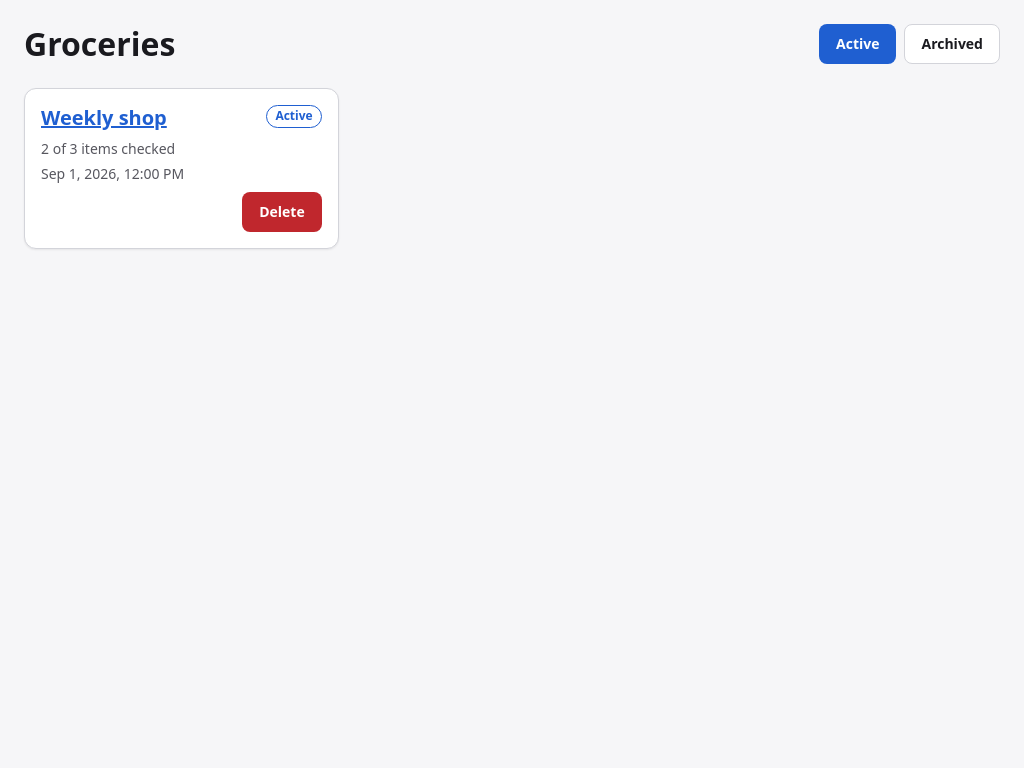
GroceryLists › cancelling the delete dialog keeps the list
expect the link "Weekly shop" is shown: met, box [41,104,167,131]
Click the button "Delete".
click(282, 212)  # box [242,192,322,232]
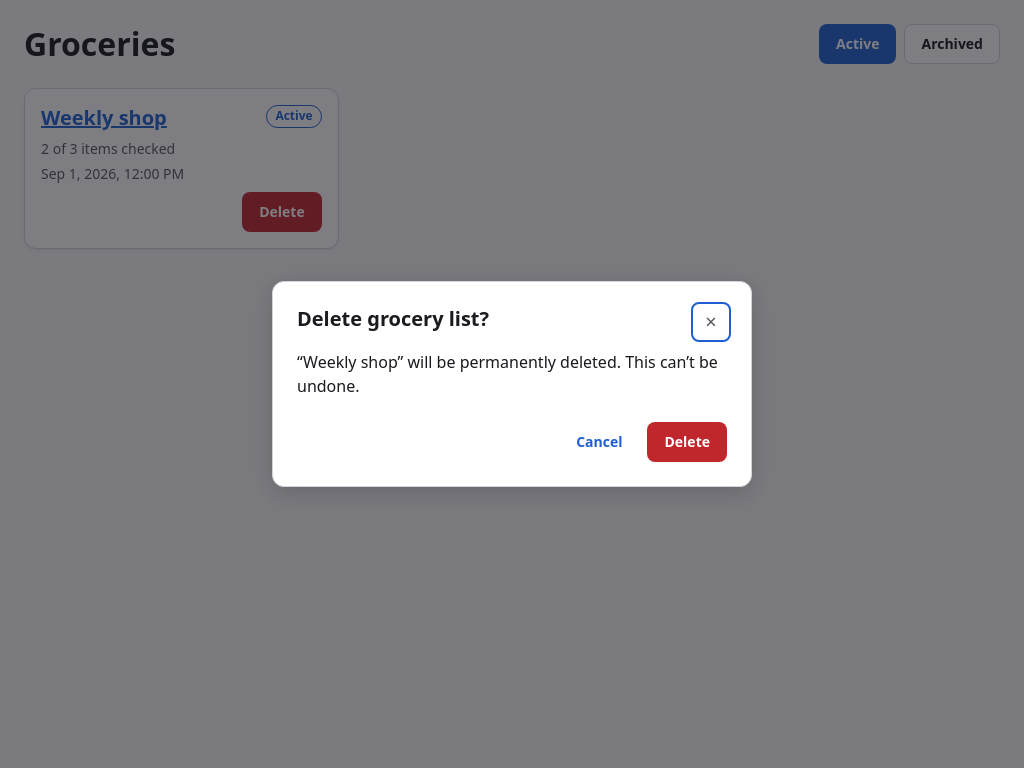
Click the button "Cancel".
click(599, 442)  # box [559,422,640,462]
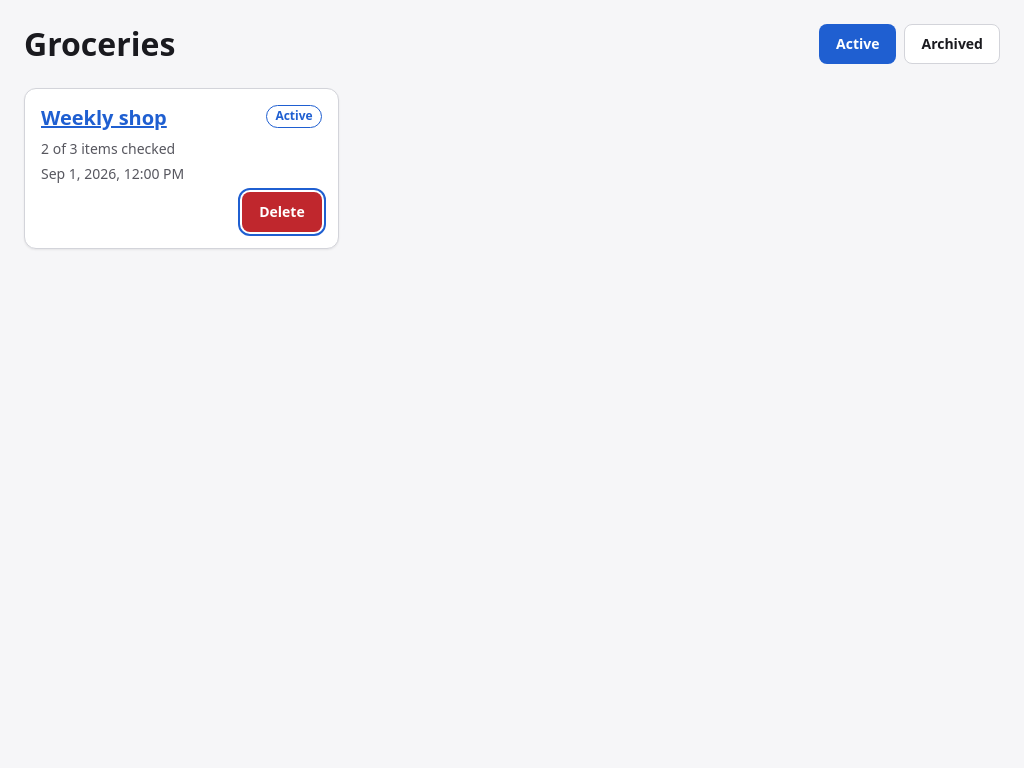
expect the link "Weekly shop" is shown: met, box [41,104,167,131]
expect the dialog is gone: met
